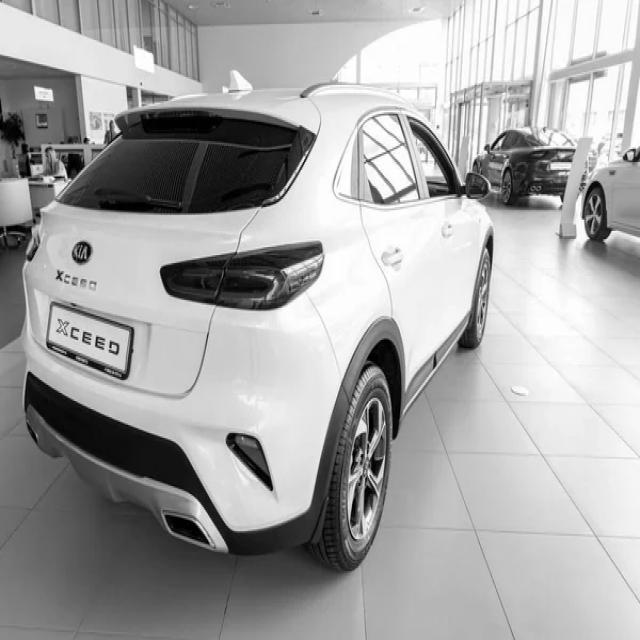Car: (21, 84, 495, 570), (474, 126, 576, 204), (583, 146, 640, 240)
